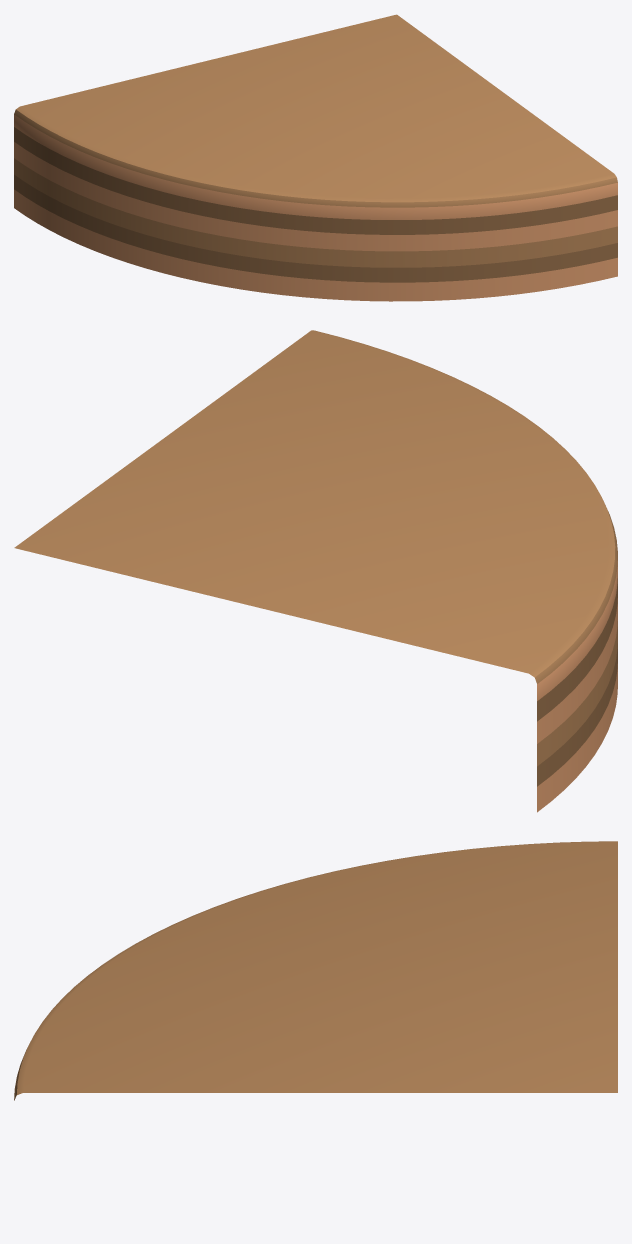
The model's file is platform_dirt_corner_round4_tall.gltf.
3 renders of one model, top to bottom at view 1: azimuth 30°, elevation 25°; view 2: azimuth 150°, elevation 25°; view 3: azimuth 270°, elevation 25°, orthographic. The views are drawn at different scales.
Visible parts, largest first — view 1: Cube_Dirt_Corner_Round4_Tall; view 2: Cube_Dirt_Corner_Round4_Tall; view 3: Cube_Dirt_Corner_Round4_Tall.
Boxes of the visible parts, x1=… form: Cube_Dirt_Corner_Round4_Tall: x1=14, y1=14, x2=617, y2=301; Cube_Dirt_Corner_Round4_Tall: x1=14, y1=330, x2=617, y2=812; Cube_Dirt_Corner_Round4_Tall: x1=14, y1=841, x2=617, y2=1100.
Bounding box in the file's own units: 8 × 2 × 8.
